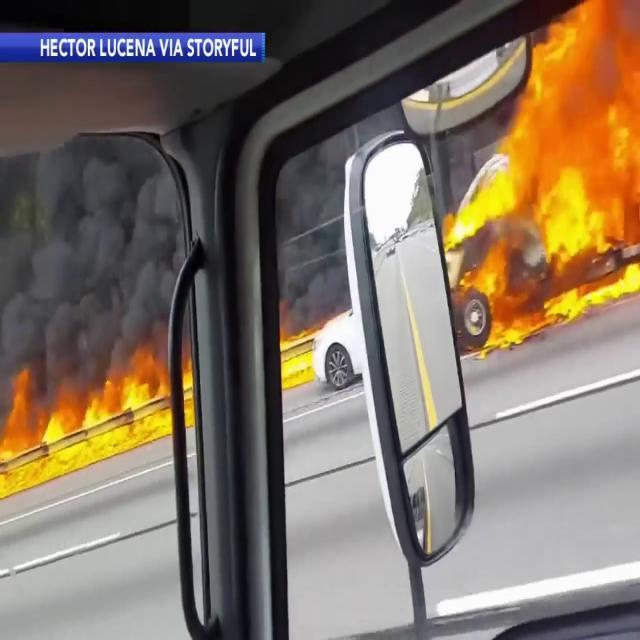Fire: (447, 1, 640, 346), (0, 351, 196, 453), (279, 310, 343, 386)
Smoke: (0, 132, 182, 366)
